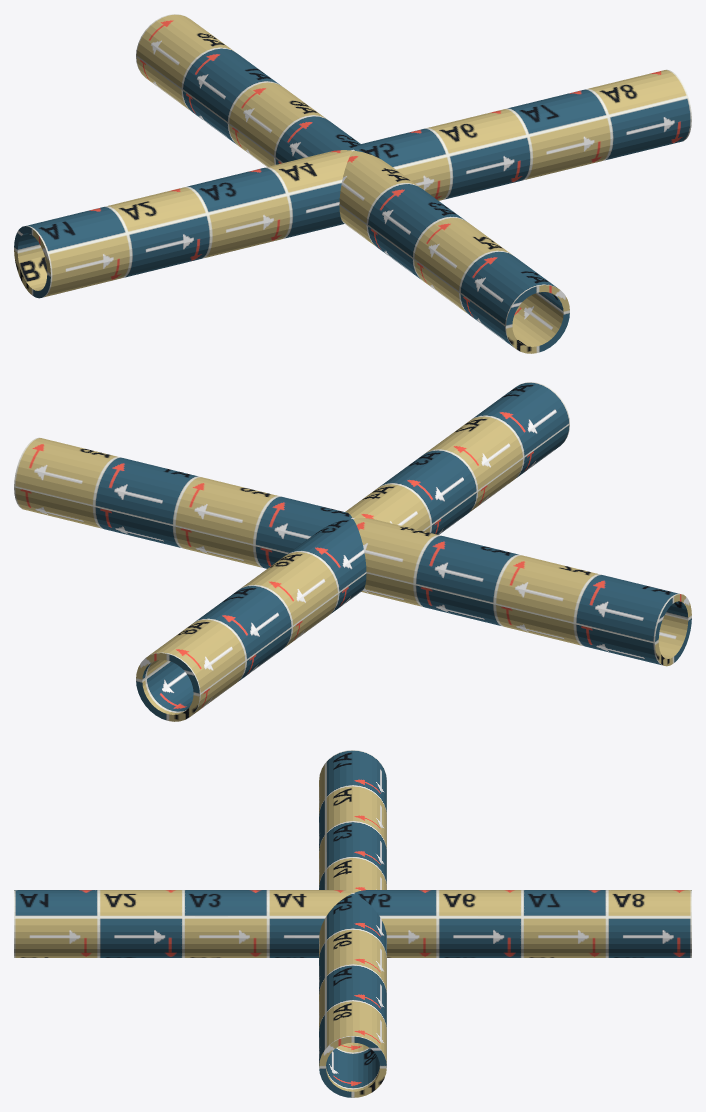
File: PIPE_Cross.fbx
3 views of the same model, one above another, from view 1: azimuth 30°, elevation 25°; view 2: azimuth 150°, elevation 25°; view 3: azimuth 270°, elevation 25° (orthographic). The views are drawn at different scales.
Parts seen in each view (by area): view 1: PIPE_Cross; view 2: PIPE_Cross; view 3: PIPE_Cross.
Boxes of the visible parts, x1,y1,x2,y2 form: PIPE_Cross: [14, 14, 691, 353]; PIPE_Cross: [14, 382, 691, 721]; PIPE_Cross: [14, 750, 691, 1097].
Size of the model in its own units: 200 by 20 by 200.
1 material, 1 textured.
